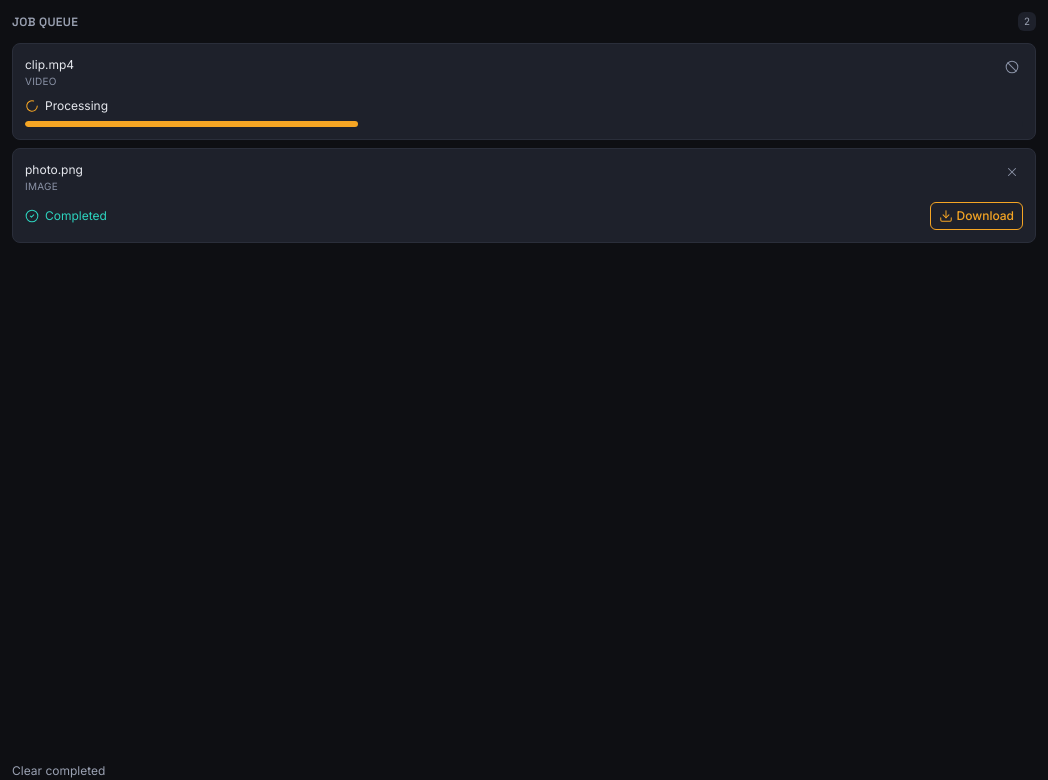
JobQueue › clears completed jobs but keeps active ones when Clear completed is clicked
Check: the link "Download" is shown, box [930,202,1023,230]
Click the button "Clear completed": (59, 770) [12,762,1036,779]
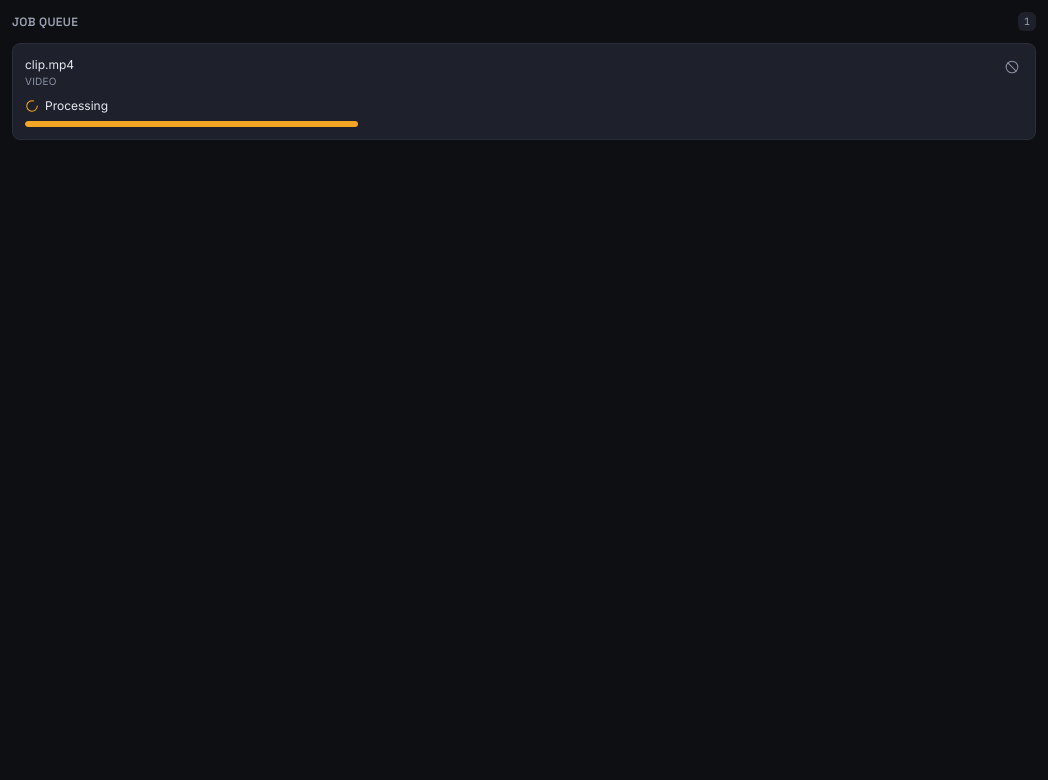
Check: the text "clip.mp4" is shown, box [25,56,74,74]
Check: the button "photo.png" is gone
